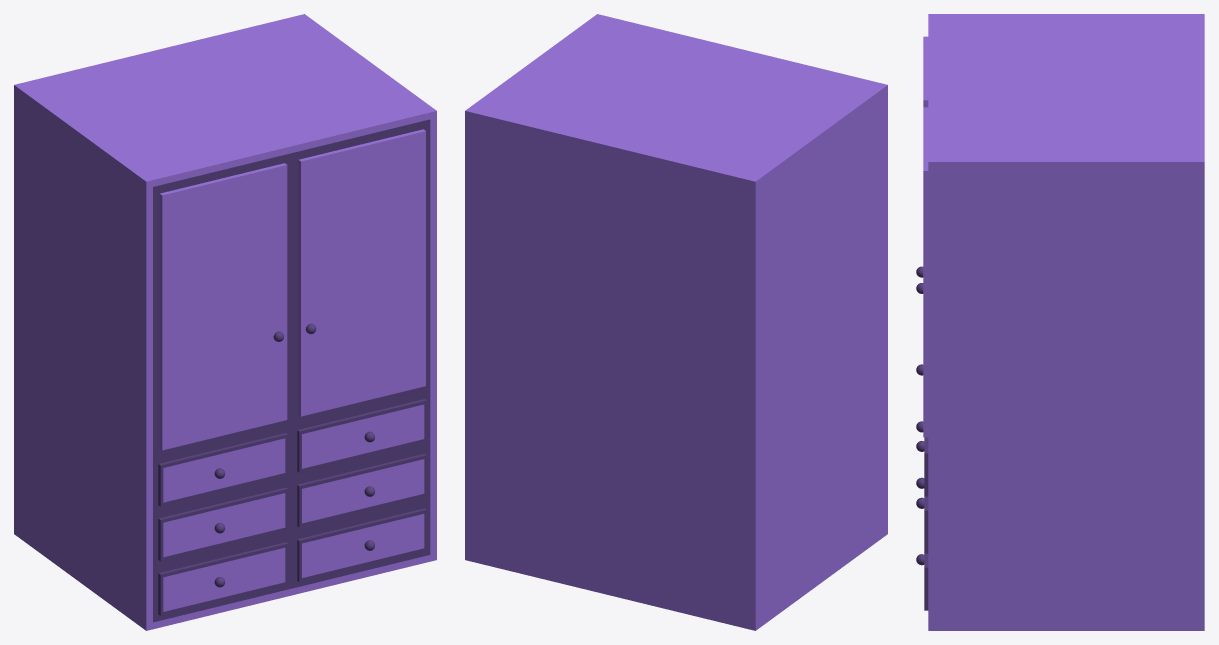
File: daraz 2.fbx
3 renders of one model, left to right at view 1: azimuth 30°, elevation 25°; view 2: azimuth 150°, elevation 25°; view 3: azimuth 270°, elevation 25°, orthographic. The views are drawn at different scales.
Parts seen in each view (by area): view 1: Cube.038, Cube.048, Cube.047, Cube.039, Cube.040, Cube.044, Cube.043, Cube.041, Cube.045, Cube.046, Cube.042; view 2: Cube.038; view 3: Cube.038, Cube.047, Cube.039, Cube.048.
Part boxes in pixels (x1,y1,x2,y2): Cube.038: (14,14,436,630); Cube.048: (159,163,287,450); Cube.047: (298,129,425,416); Cube.039: (291,119,430,588); Cube.040: (153,153,291,622); Cube.044: (302,459,424,523); Cube.043: (302,404,424,468); Cube.041: (302,514,424,577); Cube.045: (163,438,285,502); Cube.046: (163,493,285,557); Cube.042: (163,547,285,611); Cube.038: (465,14,887,630); Cube.038: (928,14,1204,630); Cube.047: (923,107,928,437); Cube.039: (924,437,928,610); Cube.048: (923,36,928,107).
Size of the model in its own units: 66.44 by 98.14 by 54.72.
